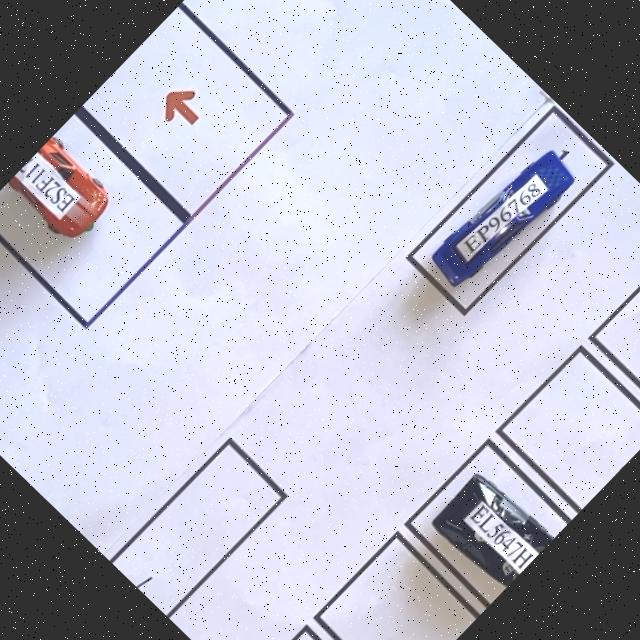car: (431, 152, 573, 288), (432, 475, 553, 587), (9, 138, 108, 239)
